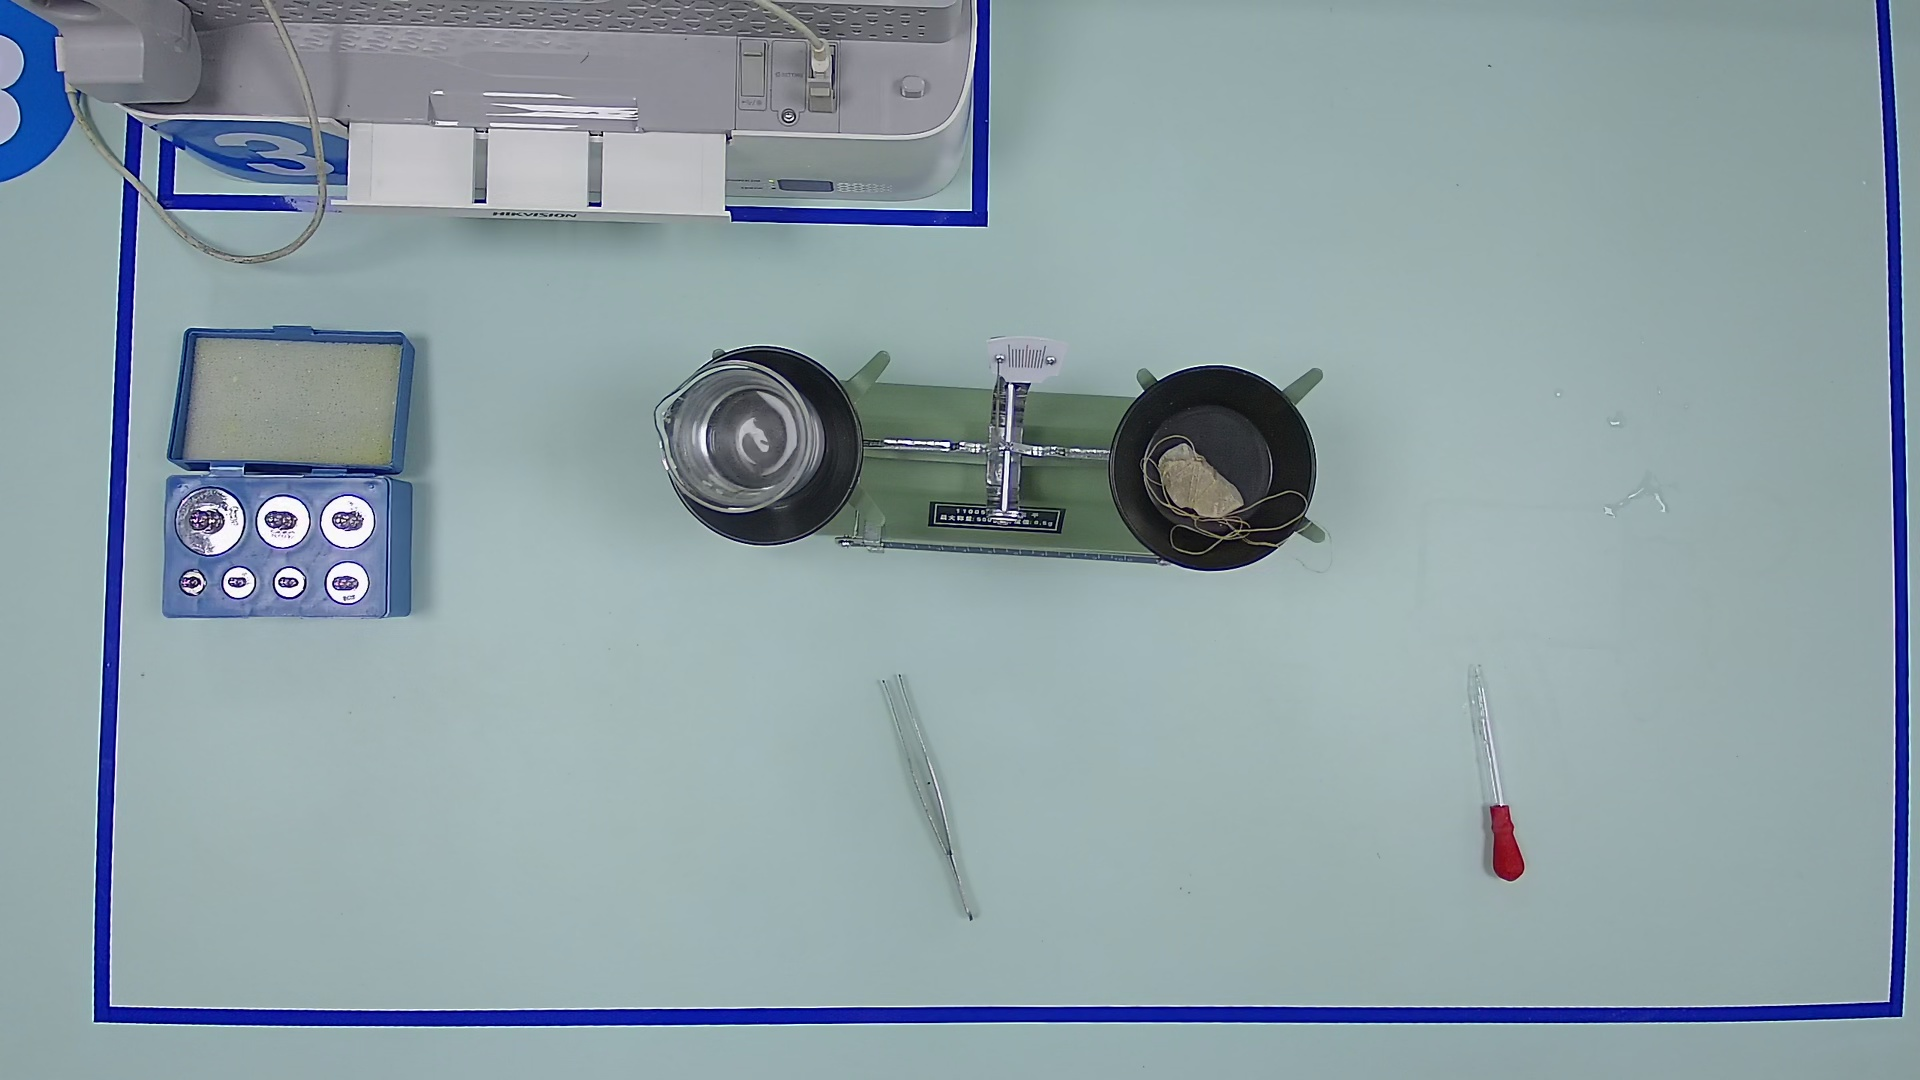bei: (644, 349, 824, 516)
diguan: (1433, 650, 1547, 889)
diguantou: (1476, 796, 1528, 890)
fama: (171, 484, 247, 556), (319, 495, 378, 550), (255, 493, 310, 549), (323, 560, 372, 607), (222, 564, 258, 601), (272, 564, 309, 601), (178, 568, 207, 597)
gan: (829, 516, 1159, 585)
he: (127, 448, 450, 640)
niezi: (848, 673, 1022, 942)
pointer: (986, 335, 1063, 381)
shi: (1146, 435, 1251, 535)
tuo: (1087, 345, 1336, 593), (655, 335, 884, 568)
you: (852, 506, 893, 560)
